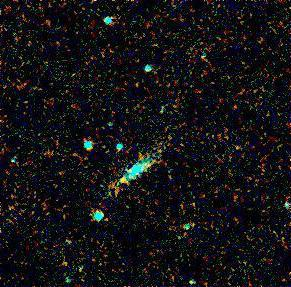star: (108, 165, 138, 195)
